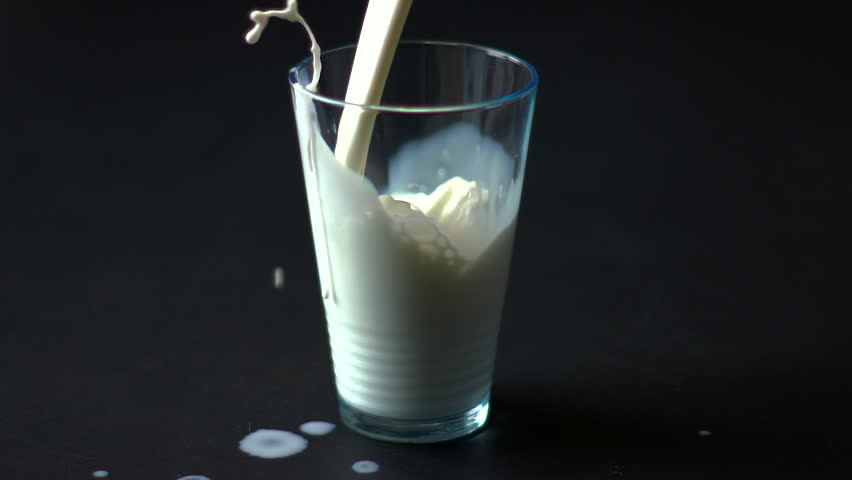glass of milk: (285, 37, 545, 451)
